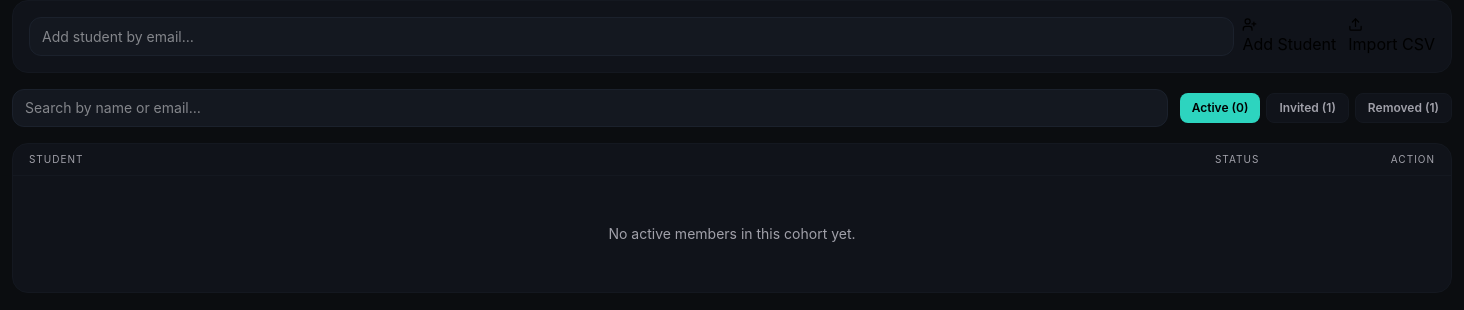
Test: TpoCohortRoster › does not offer a Remove action for an already-removed row
Click the button "removed (1)" at [1403, 108], box top-left (1355, 93), bottom-right (1452, 123)
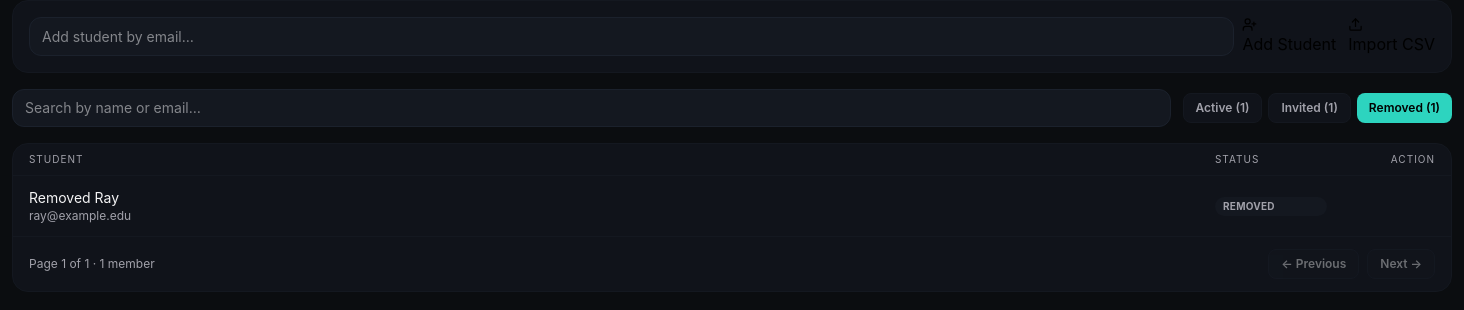
Check: the text "Removed Ray" is shown, box top-left (29, 189), bottom-right (119, 206)
